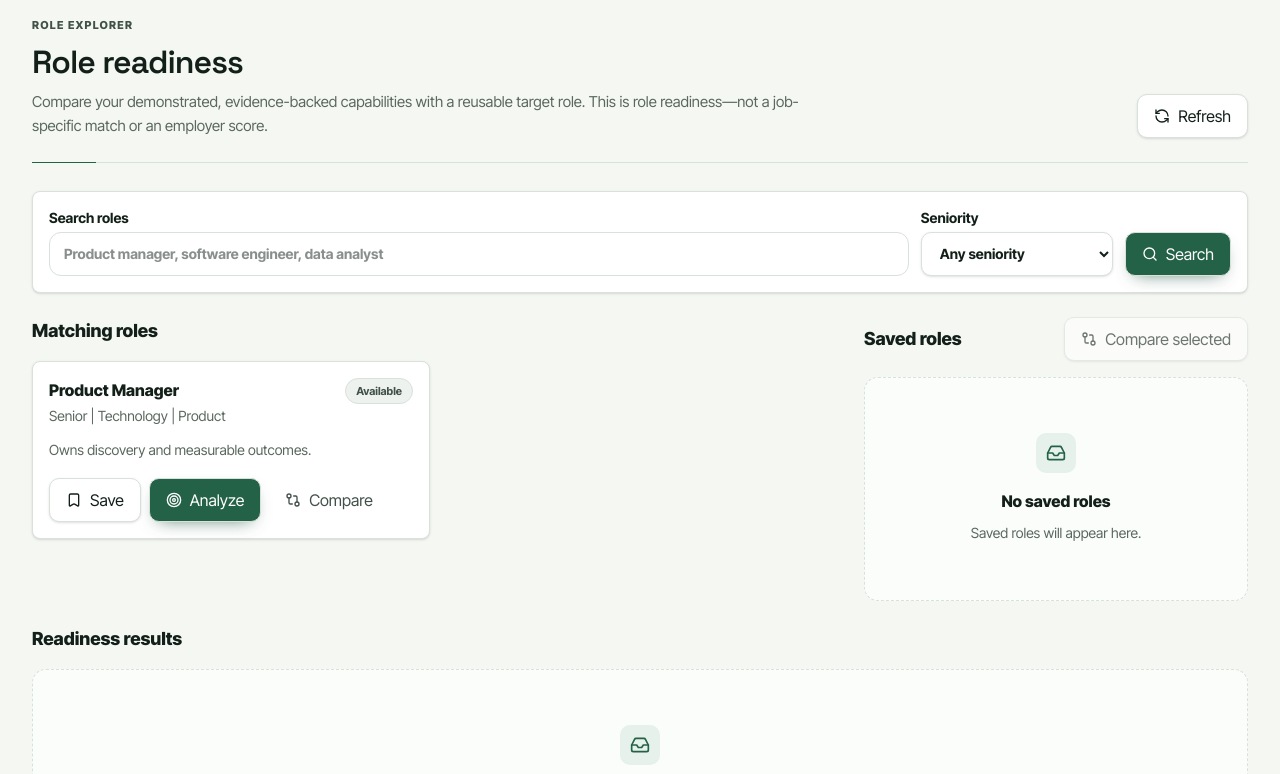
Test: Role Explorer view › saves and analyzes a real role target
This screenshot has width=1280, height=774.
Click the button "Save" at (95, 500), box x1=49 y1=478 x2=141 y2=522
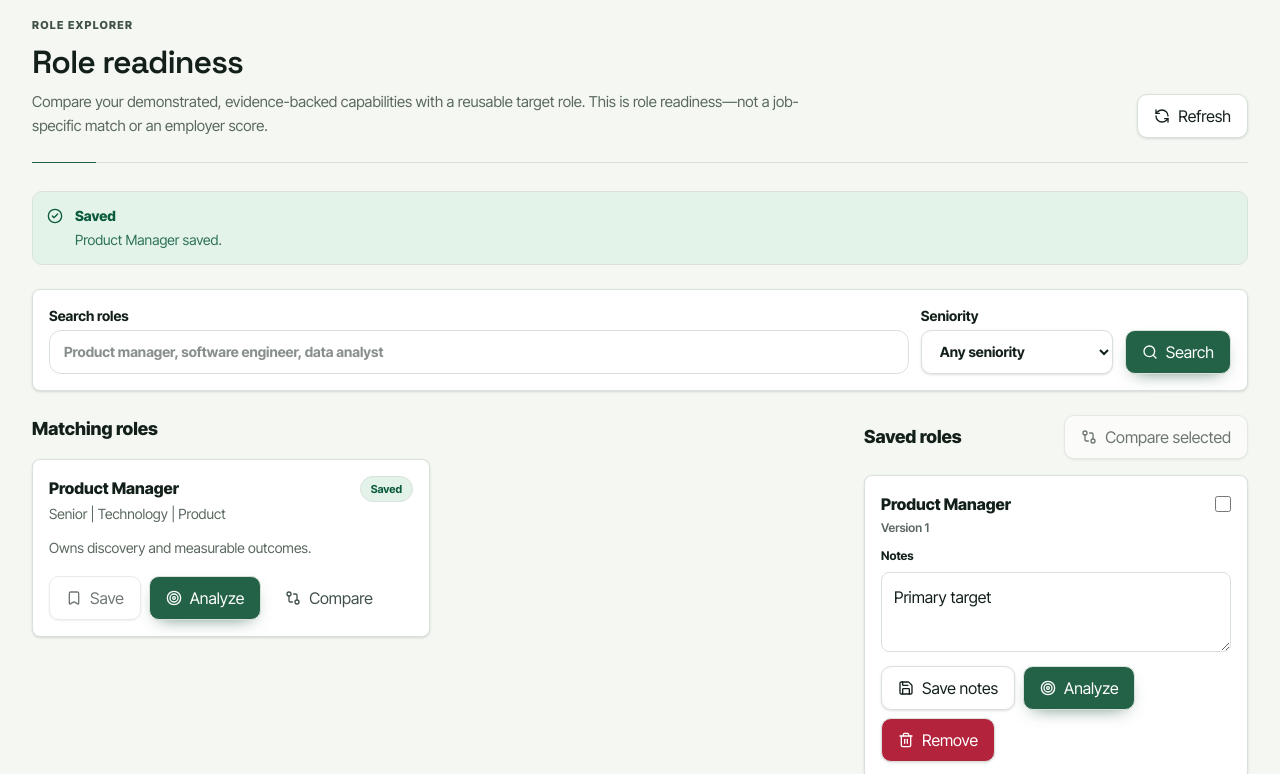
Click the button "Analyze" below "Owns discovery and measurable outcomes." at (205, 598), box x1=149 y1=576 x2=261 y2=620
(page scrolled)
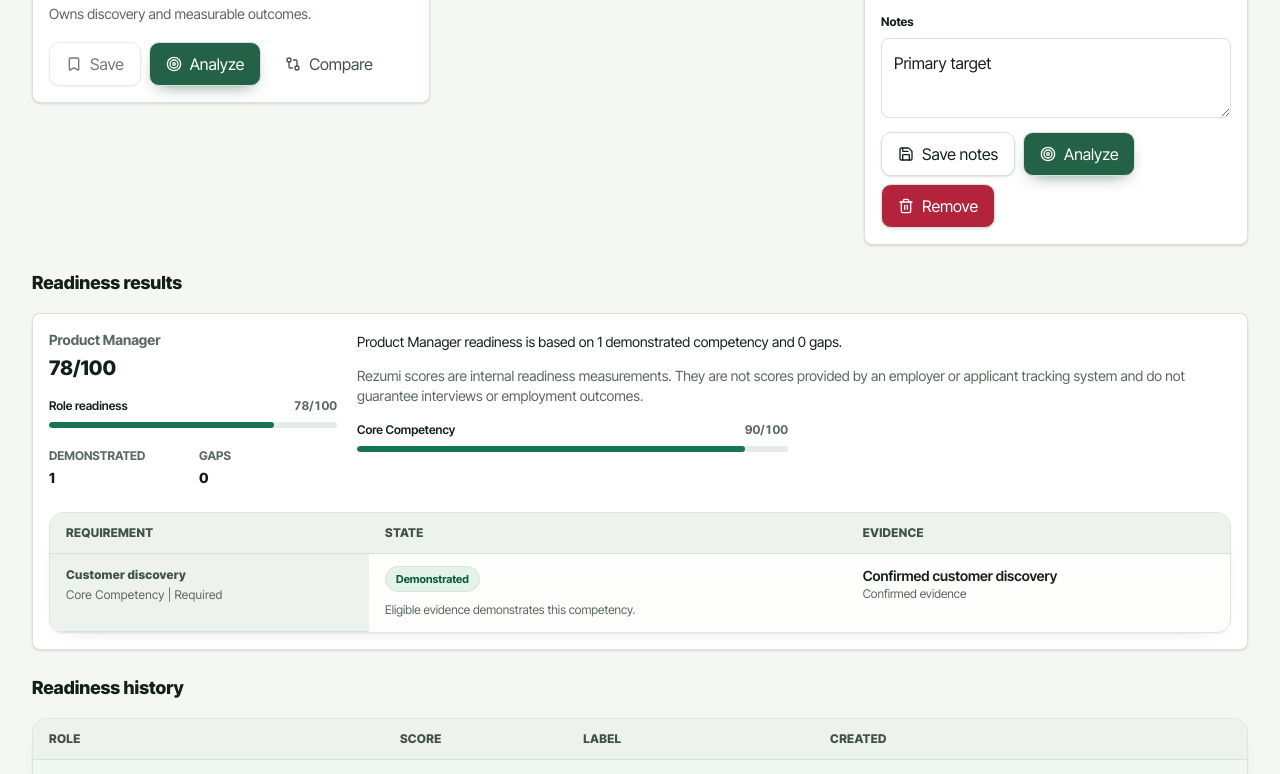
Result: the text "Confirmed customer discovery" is shown at x1=863 y1=566 x2=1057 y2=584
Result: the text "Rezumi scores are internal readiness measurements. They are not scores provided by an employer or applicant tracking sys" is shown at x1=357 y1=366 x2=1185 y2=404
